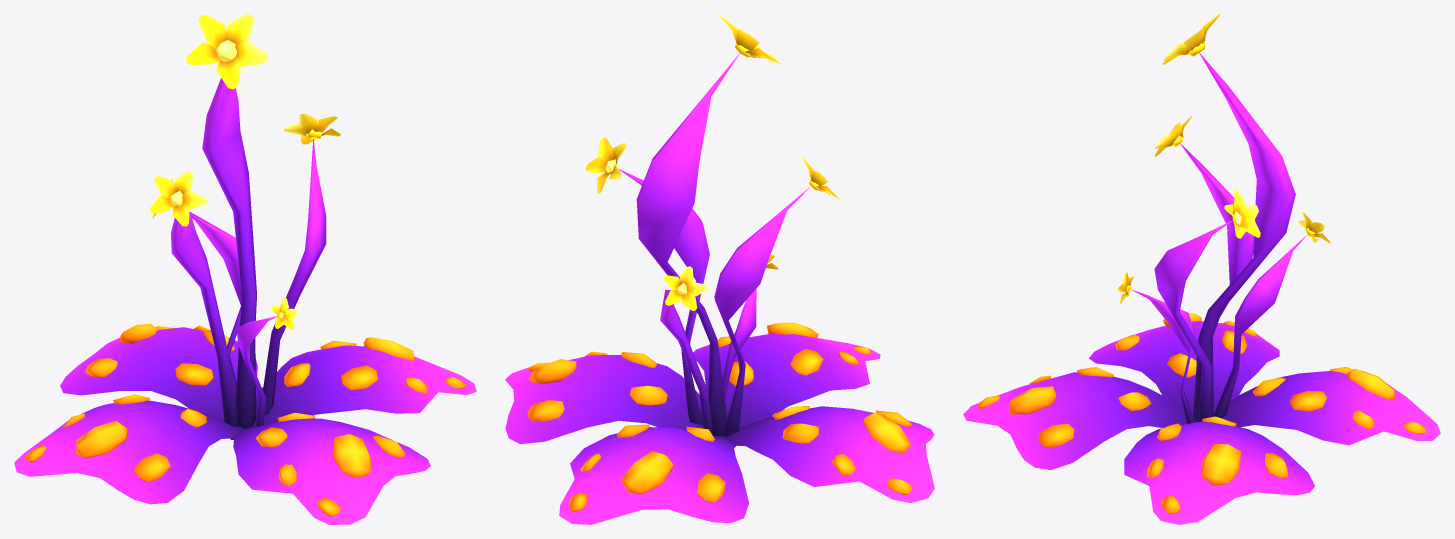
File: spotted_midnight_lily.glb
The picture shows the model from 3 angles, left to right: view 1: azimuth 30°, elevation 25°; view 2: azimuth 150°, elevation 25°; view 3: azimuth 270°, elevation 25°; orthographic projection. The views are drawn at different scales.
Parts seen in each view (by area): view 1: Spotted Midnight Lily; view 2: Spotted Midnight Lily; view 3: Spotted Midnight Lily.
Boxes of the visible parts, left/top/right/bottom form: Spotted Midnight Lily: left=14, top=14, right=476, bottom=524; Spotted Midnight Lily: left=505, top=14, right=934, bottom=524; Spotted Midnight Lily: left=963, top=14, right=1440, bottom=524.
Bounding box in the file's own units: 1.53 × 1.45 × 1.53.
Materials: 1 (1 with a texture image).
